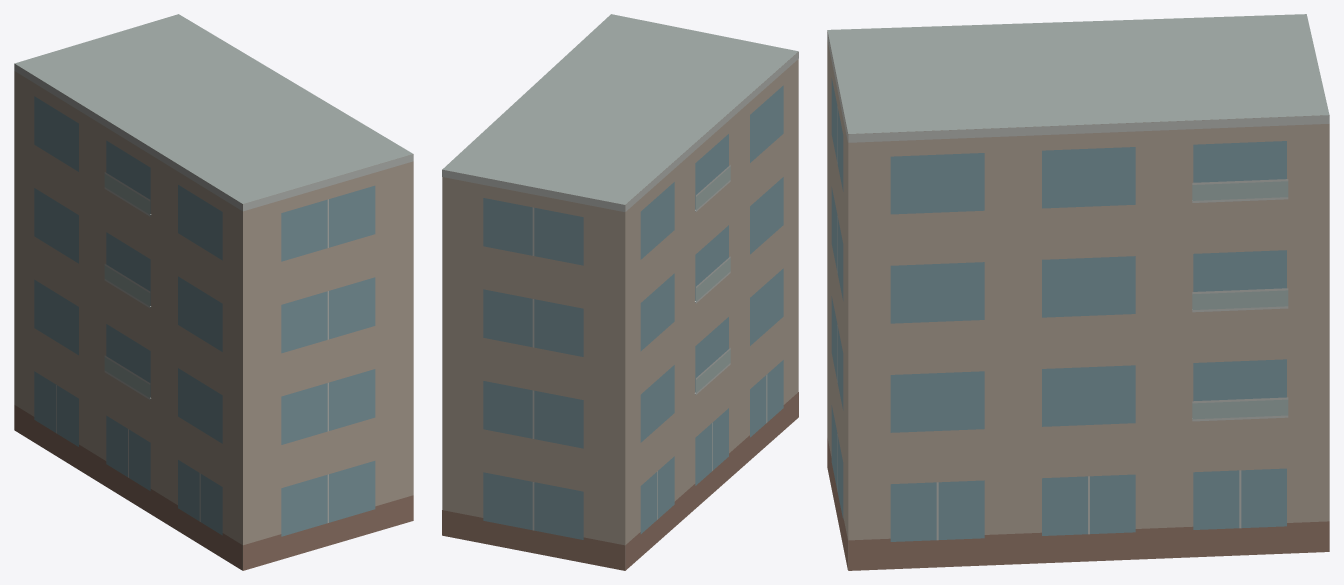
File: survey-upis-32653080.glb
3 views of the same model, side by side, from view 1: azimuth 30°, elevation 25°; view 2: azimuth 150°, elevation 25°; view 3: azimuth 270°, elevation 25° (orthographic). The views are drawn at different scales.
Parts seen in each view (by area): view 1: survey-upis-32653080.tmp; view 2: survey-upis-32653080.tmp; view 3: survey-upis-32653080.tmp.
Boxes of the visible parts, bbox=[...] form: survey-upis-32653080.tmp: bbox=[14, 14, 413, 570]; survey-upis-32653080.tmp: bbox=[442, 14, 798, 570]; survey-upis-32653080.tmp: bbox=[827, 14, 1329, 570].
Size of the model in its own units: 7.2 by 12.2 by 12.72.
